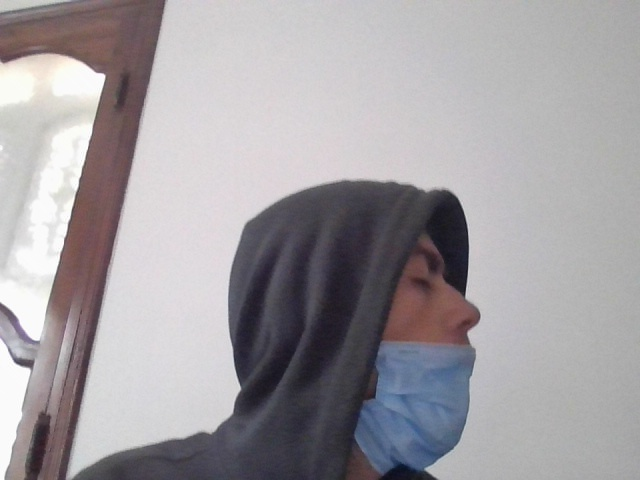mask_weared_incorrect: (334, 207, 496, 479)
